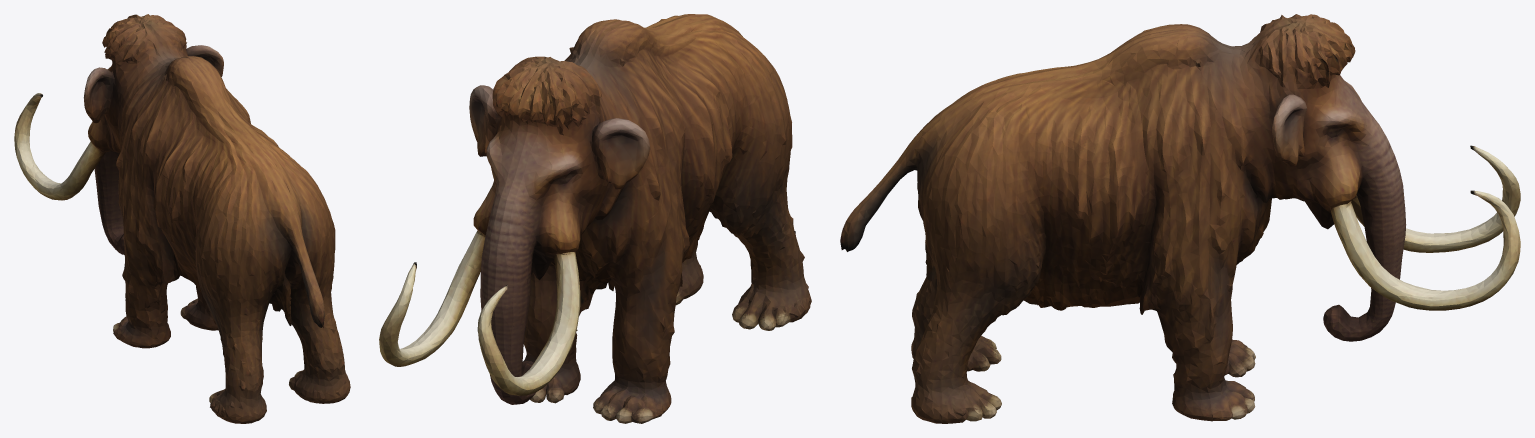
3 views of the same model, side by side, from view 1: azimuth 30°, elevation 25°; view 2: azimuth 150°, elevation 25°; view 3: azimuth 270°, elevation 25° (orthographic). The views are drawn at different scales.
Parts seen in each view (by area): view 1: world; view 2: world; view 3: world.
Part boxes in pixels (bbox=[...]): world: bbox=[14, 14, 350, 423]; world: bbox=[379, 14, 811, 423]; world: bbox=[840, 14, 1520, 423].
Bounding box in the file's own units: 0.3018 × 0.5916 × 0.9892.
Materials: 1 (1 with a texture image).
